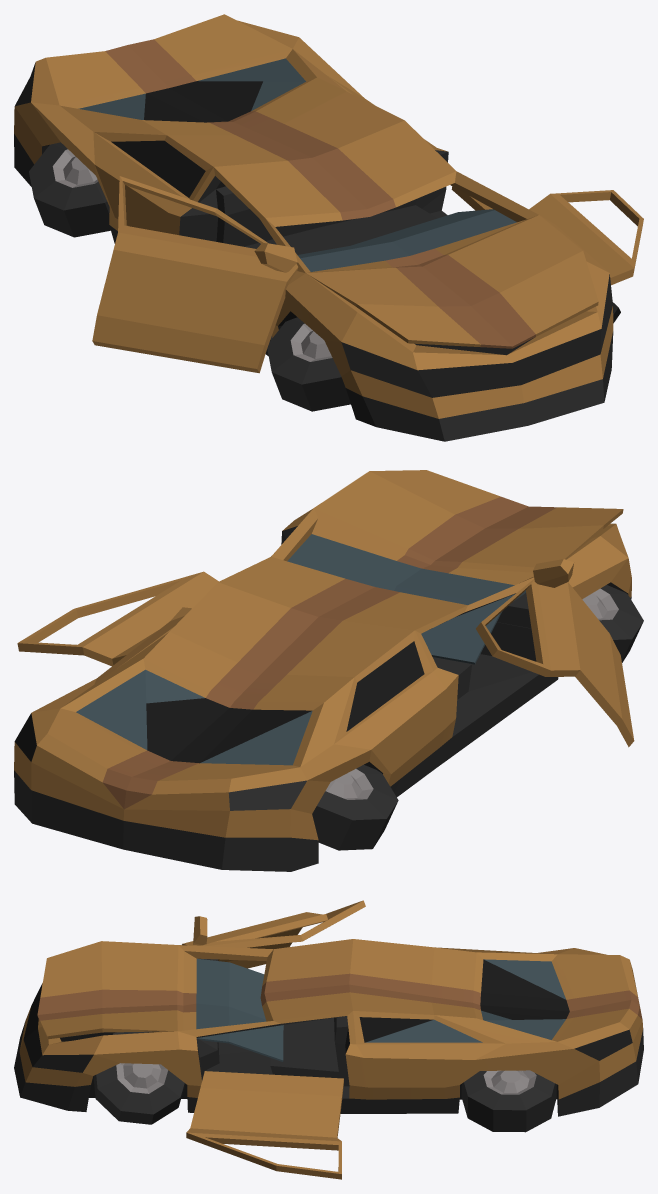
The model's file is apocalypse_car-broken-apocalypse.fbx.
3 views of the same model, one above another, from view 1: azimuth 30°, elevation 25°; view 2: azimuth 150°, elevation 25°; view 3: azimuth 270°, elevation 25° (orthographic). The views are drawn at different scales.
Parts seen in each view (by area): view 1: car_broken_apocalypse_car_broken_apocalypse_base, car_broken_apocalypse_car_broken_apocalypse_props; view 2: car_broken_apocalypse_car_broken_apocalypse_base, car_broken_apocalypse_car_broken_apocalypse_props; view 3: car_broken_apocalypse_car_broken_apocalypse_base, car_broken_apocalypse_car_broken_apocalypse_props.
Part boxes in pixels (<box>): car_broken_apocalypse_car_broken_apocalypse_base: <box>14,14,613,441</box>; car_broken_apocalypse_car_broken_apocalypse_props: <box>29,142,643,411</box>; car_broken_apocalypse_car_broken_apocalypse_base: <box>14,470,631,871</box>; car_broken_apocalypse_car_broken_apocalypse_props: <box>17,559,643,850</box>; car_broken_apocalypse_car_broken_apocalypse_base: <box>14,939,643,1116</box>; car_broken_apocalypse_car_broken_apocalypse_props: <box>93,900,556,1179</box>.
Bounding box in the file's own units: 158 × 36.13 × 200.
